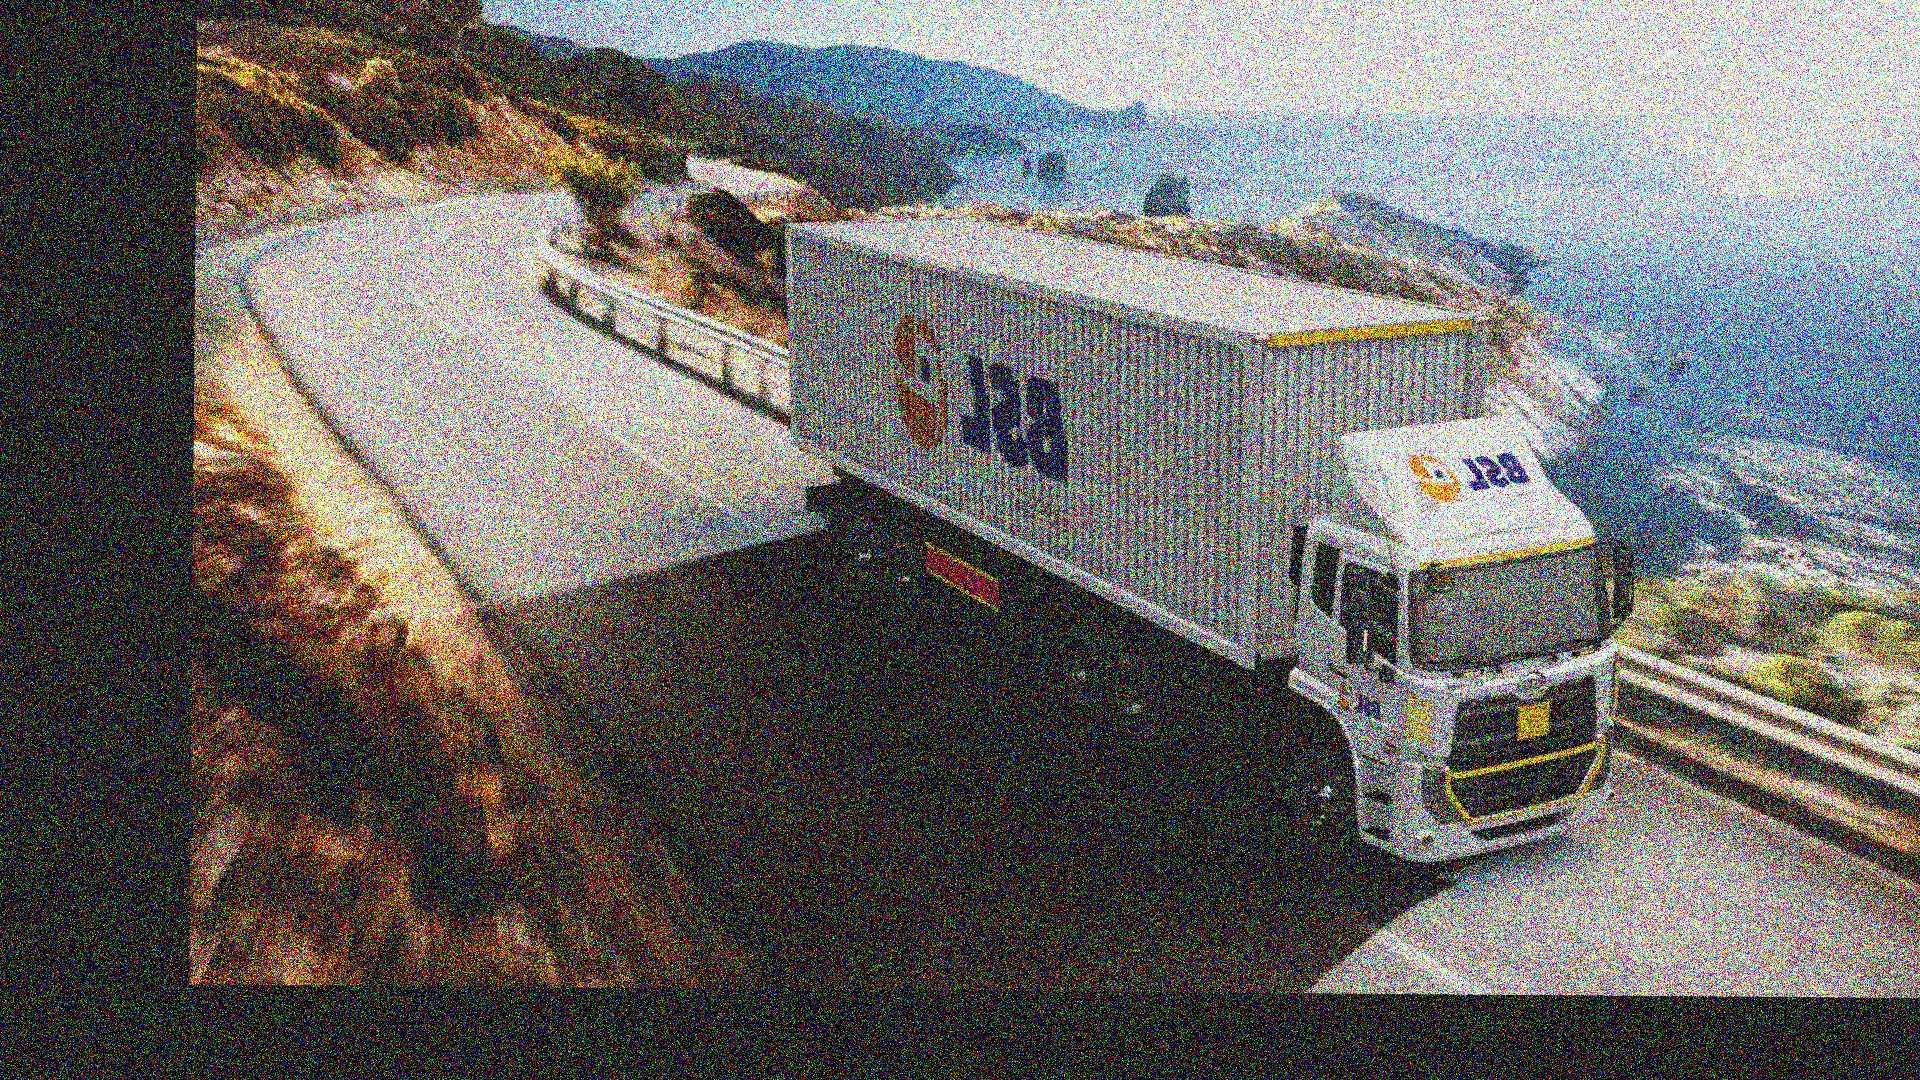truck: (778, 219, 1622, 876)
